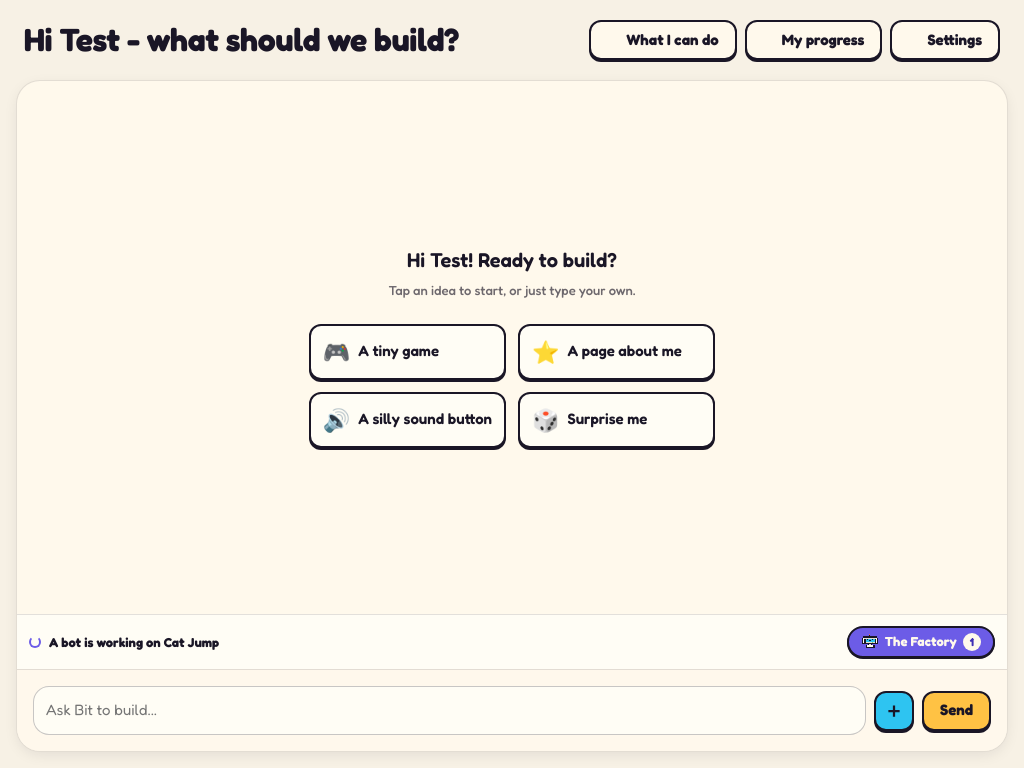
Test: ChatWorkspace header › blocks conversation reset while a build is running
Click the button "Settings". click: (945,40)
box: [890,20,1000,60]
(page scrolled)
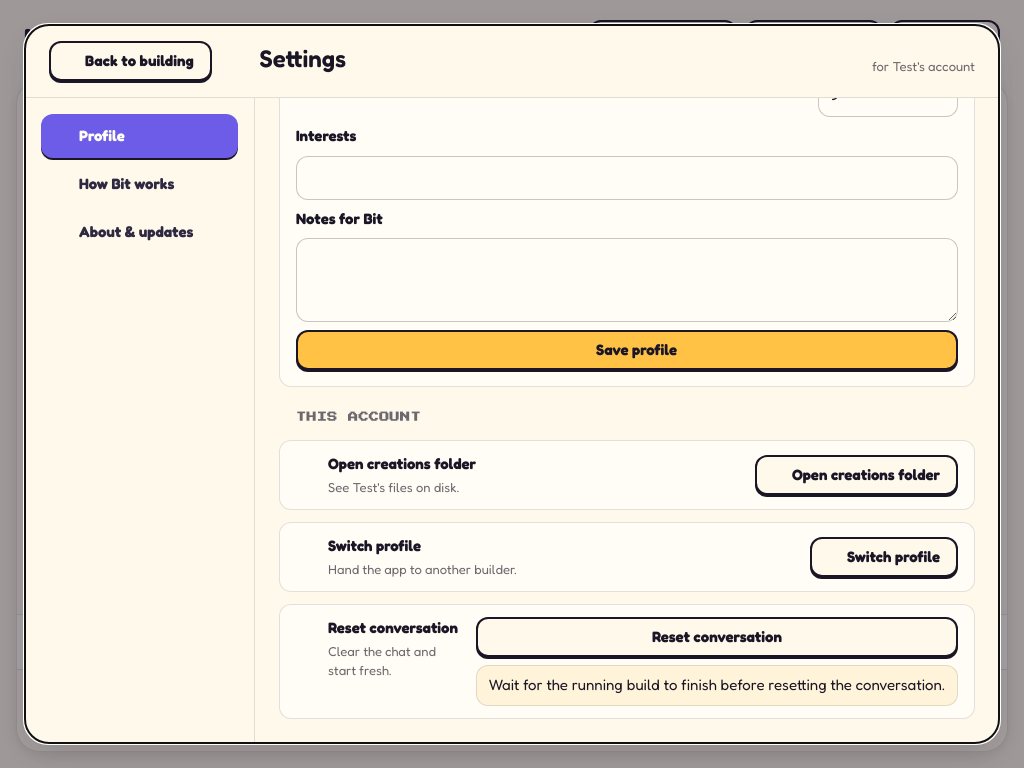
Click the button "Reset conversation". click: (717,637)
box: [476,617,958,657]
(page scrolled)
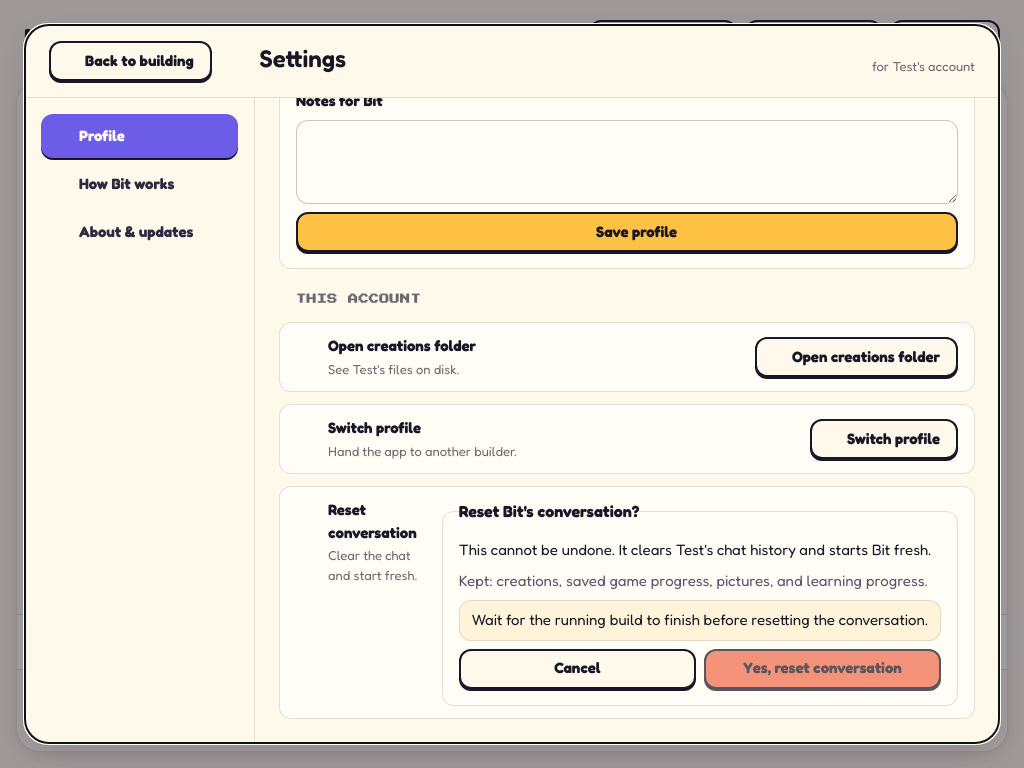
Check: the text "Wait for the running build to finish before resetting the conversation." is shown, box [459,600,941,640]
Check: the button "Yes, reset conversation" is disabled, box [704,648,941,688]
